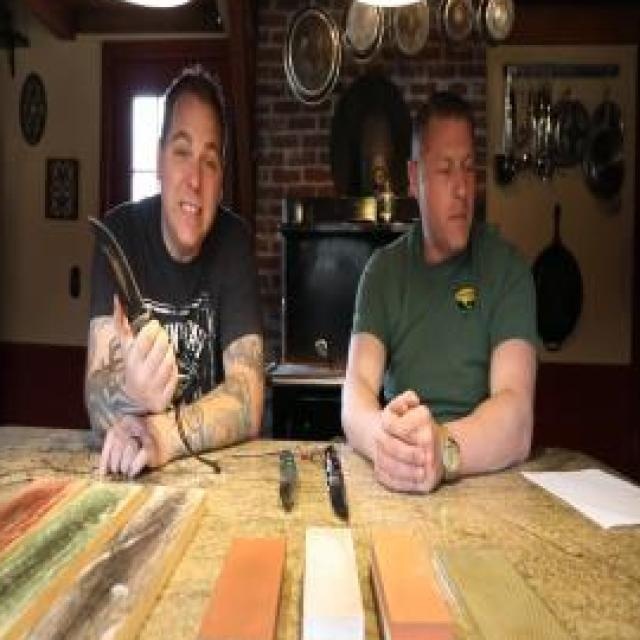knife: (78, 199, 182, 396)
